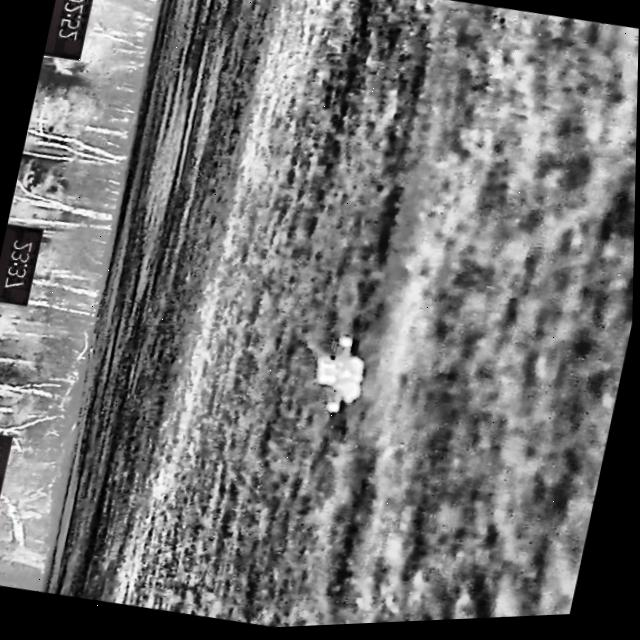drone: (308, 332, 376, 423)
